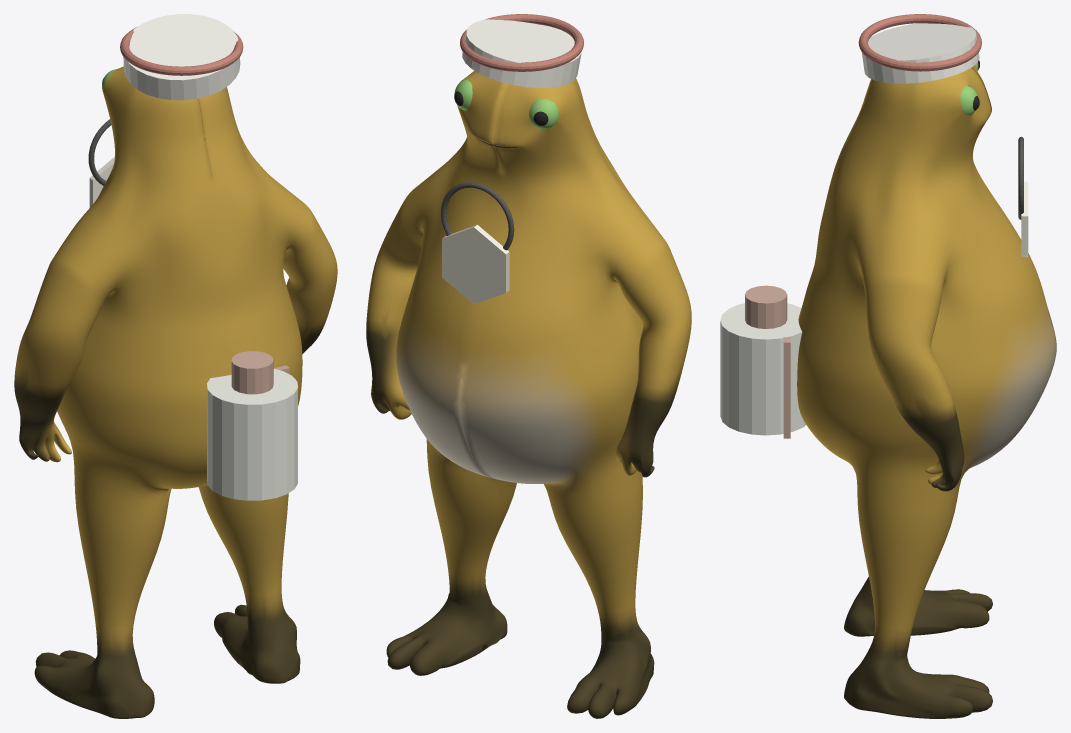
The model's file is milkfrog_no13.glb.
3 renders of one model, left to right at view 1: azimuth 30°, elevation 25°; view 2: azimuth 150°, elevation 25°; view 3: azimuth 270°, elevation 25°, orthographic.
Parts seen in each view (by area): view 1: MilkFrog_NO13_Body, NO13_PackBottle, NO13_Cap, NO13_PackNipple, NO13_CapRim; view 2: MilkFrog_NO13_Body, NO13_Cap, NO13_Tag, NO13_CapRim, NO13_TagCord; view 3: MilkFrog_NO13_Body, NO13_PackBottle, NO13_Cap, NO13_CapRim, NO13_PackNipple, NO13_PackStrap.
Part boxes in pixels (<box>): MilkFrog_NO13_Body: <box>14,66,337,718</box>; NO13_PackBottle: <box>207,369,297,500</box>; NO13_Cap: <box>123,14,240,100</box>; NO13_PackNipple: <box>231,351,273,394</box>; NO13_CapRim: <box>120,27,243,75</box>; MilkFrog_NO13_Body: <box>366,71,691,718</box>; NO13_Cap: <box>462,19,581,87</box>; NO13_Tag: <box>442,224,509,303</box>; NO13_CapRim: <box>460,14,583,71</box>; NO13_TagCord: <box>441,182,514,250</box>; MilkFrog_NO13_Body: <box>797,60,1056,718</box>; NO13_PackBottle: <box>720,303,806,435</box>; NO13_Cap: <box>862,23,979,83</box>; NO13_CapRim: <box>858,14,981,71</box>; NO13_PackNipple: <box>745,285,787,328</box>; NO13_PackStrap: <box>783,336,790,438</box>.
Bounding box in the file's own units: 0.9665 × 1.92 × 0.9217.
